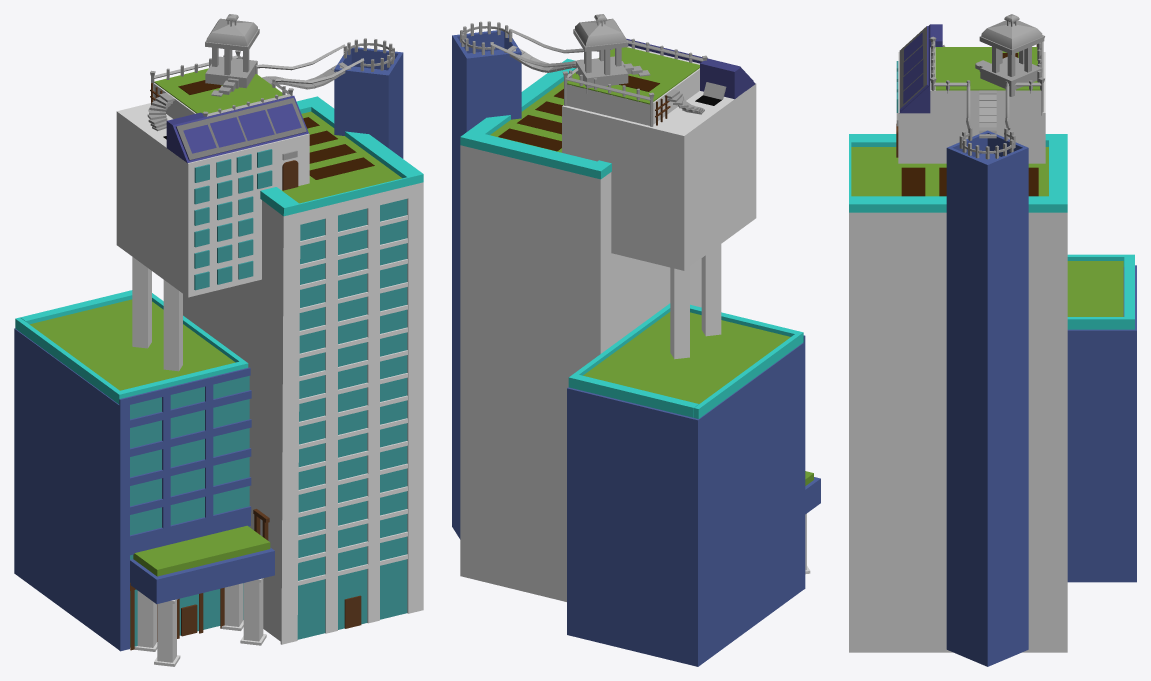
File: Building_Vertical_Farming_01_exp.fbx
3 renders of one model, left to right at view 1: azimuth 30°, elevation 25°; view 2: azimuth 150°, elevation 25°; view 3: azimuth 270°, elevation 25°, orthographic. The views are drawn at different scales.
Visible parts, largest first — view 1: pCube111; view 2: pCube111; view 3: pCube111.
Boxes of the visible parts, x1,y1,x2,y2 form: pCube111: (14, 14, 423, 666); pCube111: (452, 14, 820, 666); pCube111: (849, 14, 1136, 666).
Bounding box in the file's own units: 0.1216 × 0.2081 × 0.093.
